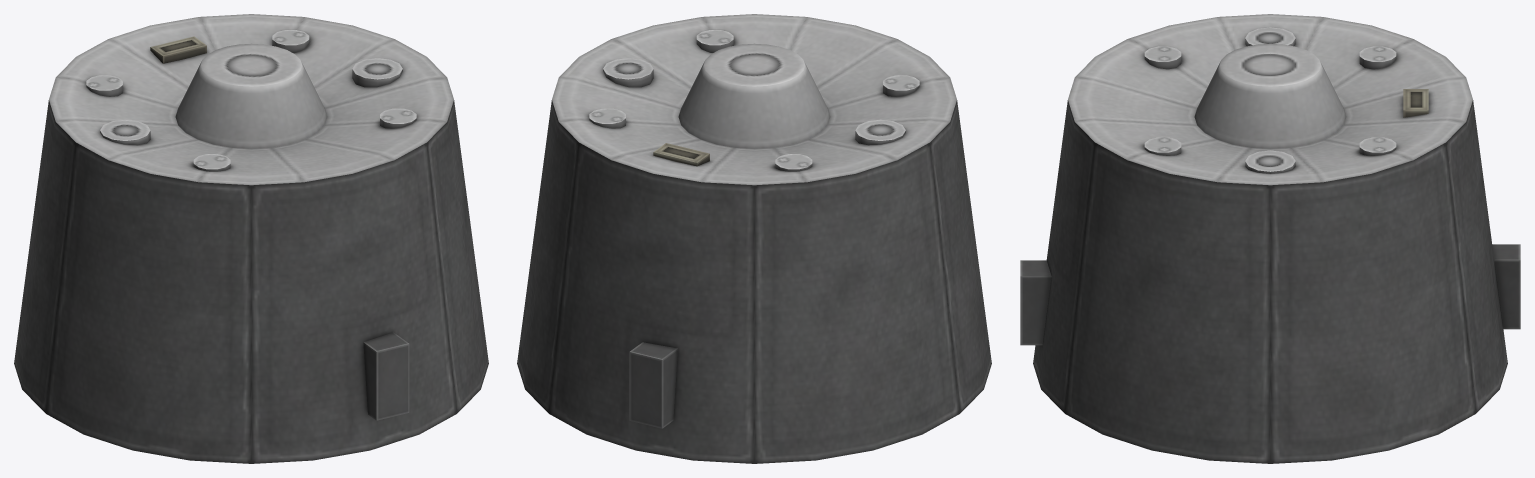
File: fabric male.obj
3 renders of one model, left to right at view 1: azimuth 30°, elevation 25°; view 2: azimuth 150°, elevation 25°; view 3: azimuth 270°, elevation 25°, orthographic.
Parts seen in each view (by area): view 1: fabric male; view 2: fabric male; view 3: fabric male.
Part boxes in pixels (x1=…): fabric male: x1=14, y1=14, x2=488, y2=463; fabric male: x1=517, y1=14, x2=991, y2=463; fabric male: x1=1020, y1=14, x2=1520, y2=463.
Bounding box in the file's own units: 0.9375 × 0.65 × 0.9875.
Materials: 1 (1 with a texture image).
